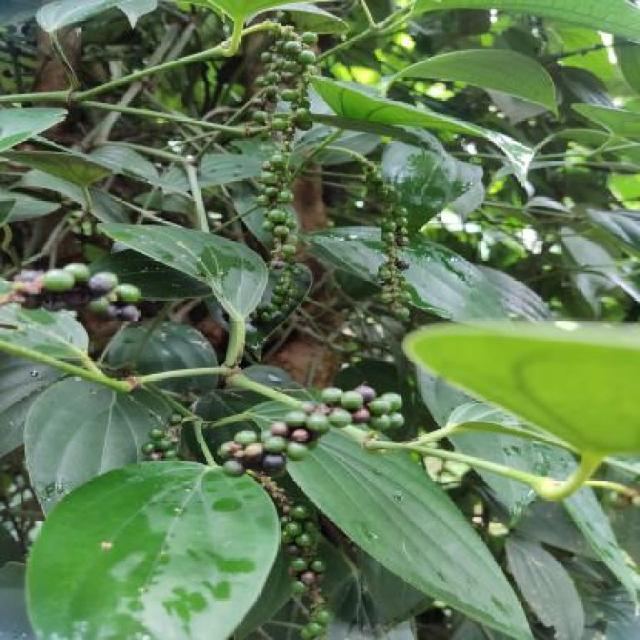UNRIPE: (252, 53, 325, 299), (216, 377, 399, 457), (9, 259, 169, 345), (366, 183, 423, 314), (277, 517, 332, 638)
